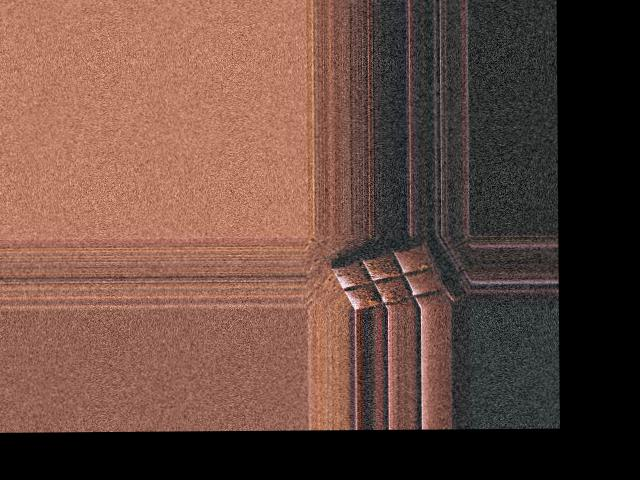chocolate: (325, 240, 452, 308)
